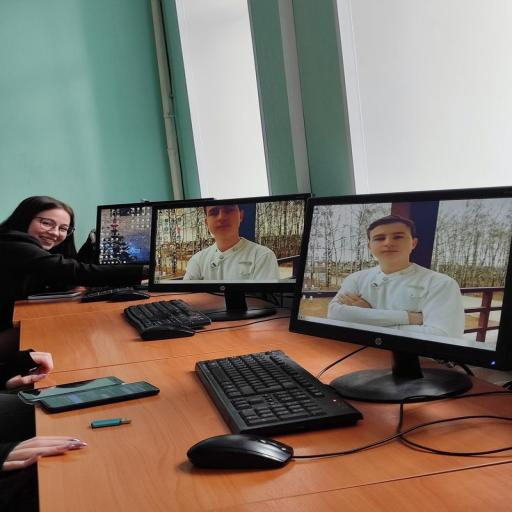laptop: (0, 196, 143, 360), (0, 351, 86, 511)
people: (41, 382, 159, 412), (18, 377, 123, 404), (28, 291, 82, 300)
stroller: (37, 320, 511, 511), (37, 355, 511, 511)
